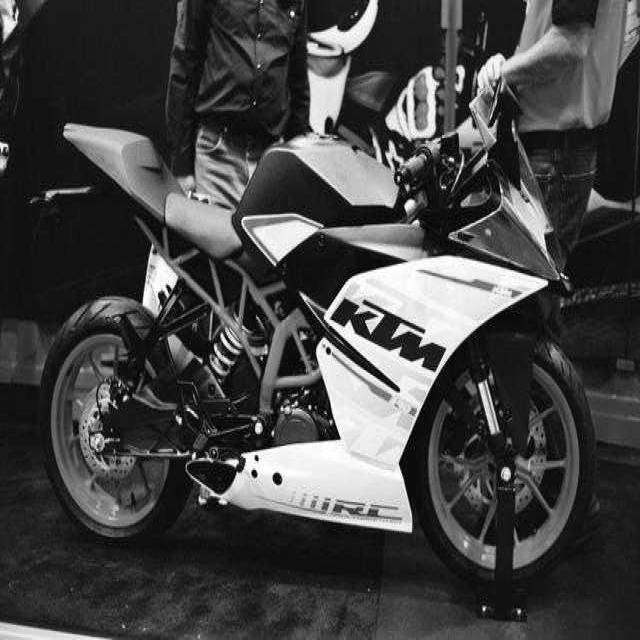Motorcycle: (40, 83, 595, 608)
